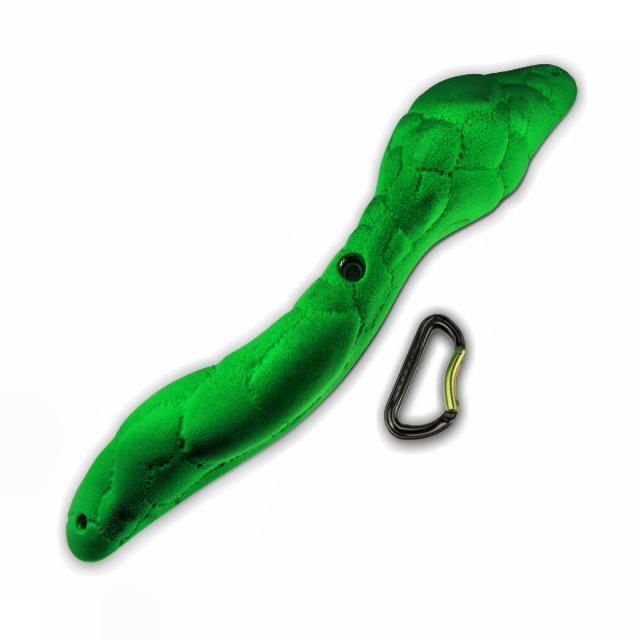Hold: (0, 39, 598, 606)
